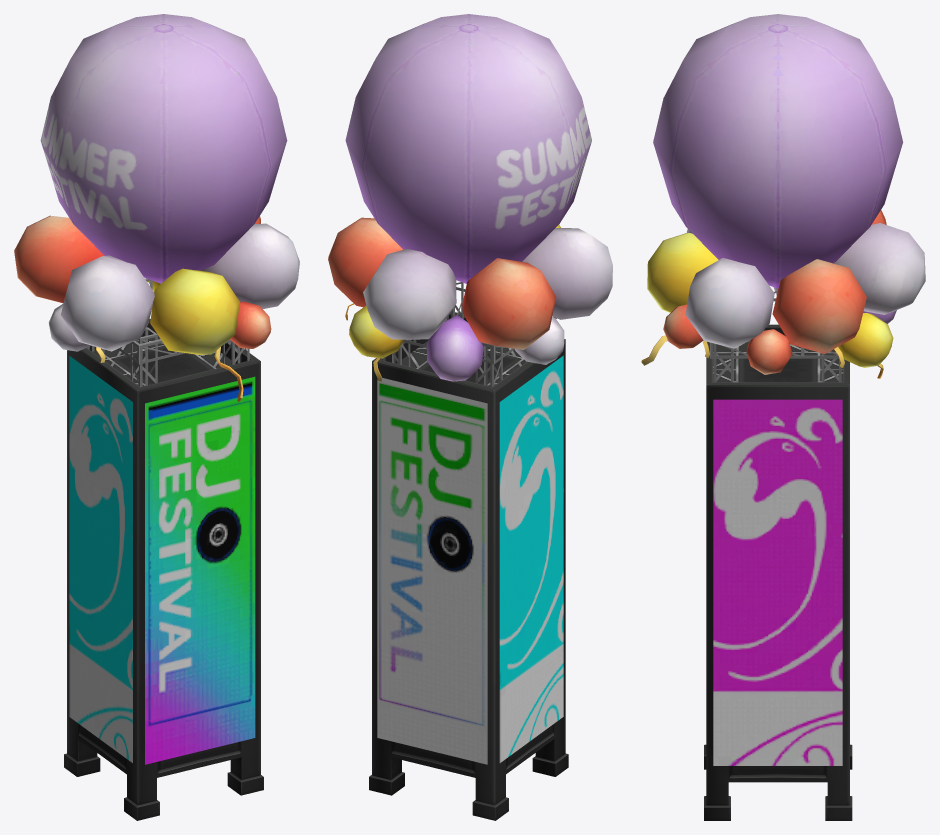
Rendered from my_ariussummer_01_banner_01.glb.
3 views of the same model, side by side, from view 1: azimuth 30°, elevation 25°; view 2: azimuth 150°, elevation 25°; view 3: azimuth 270°, elevation 25° (orthographic).
Parts seen in each view (by area): view 1: my_ariussummer_01_banner_01; view 2: my_ariussummer_01_banner_01; view 3: my_ariussummer_01_banner_01.
Part boxes in pixels (x1,y1,x2,y2): my_ariussummer_01_banner_01: [14, 14, 299, 820]; my_ariussummer_01_banner_01: [328, 14, 612, 820]; my_ariussummer_01_banner_01: [641, 14, 925, 820].
Bounding box in the file's own units: 0.0091 × 0.0283 × 0.00955.
Materials: 1 (1 with a texture image).
